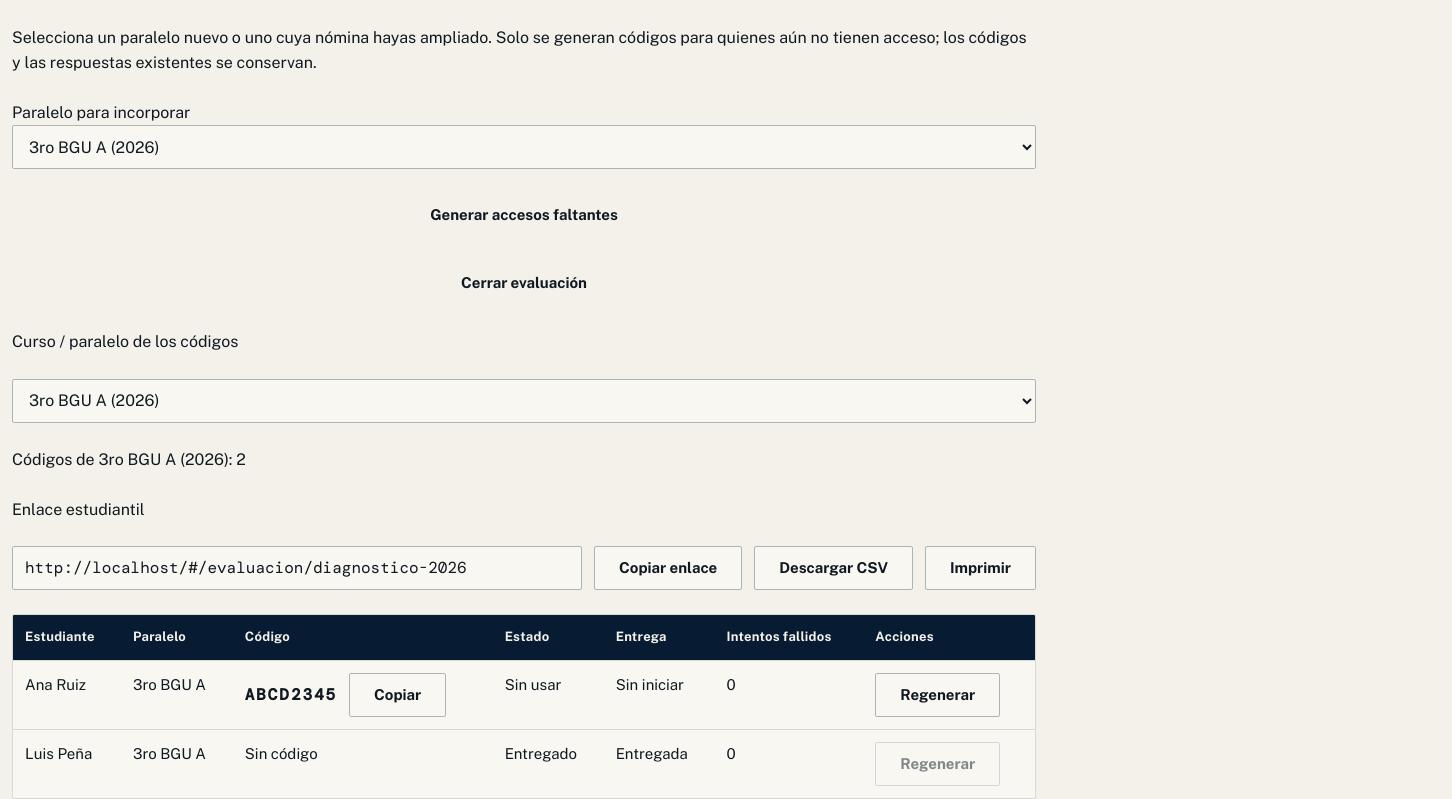
Test: AccessManagementScreen · códigos recuperables › reemplaza el código anterior en la tabla al regenerarlo
(page scrolled)
Check: the text "ABCD2345" is shown, box [245,682,337,708]
Click the button with aria-label "Regenerar código para Ana Ruiz". click: (938, 695)
box: [875,673,1000,717]
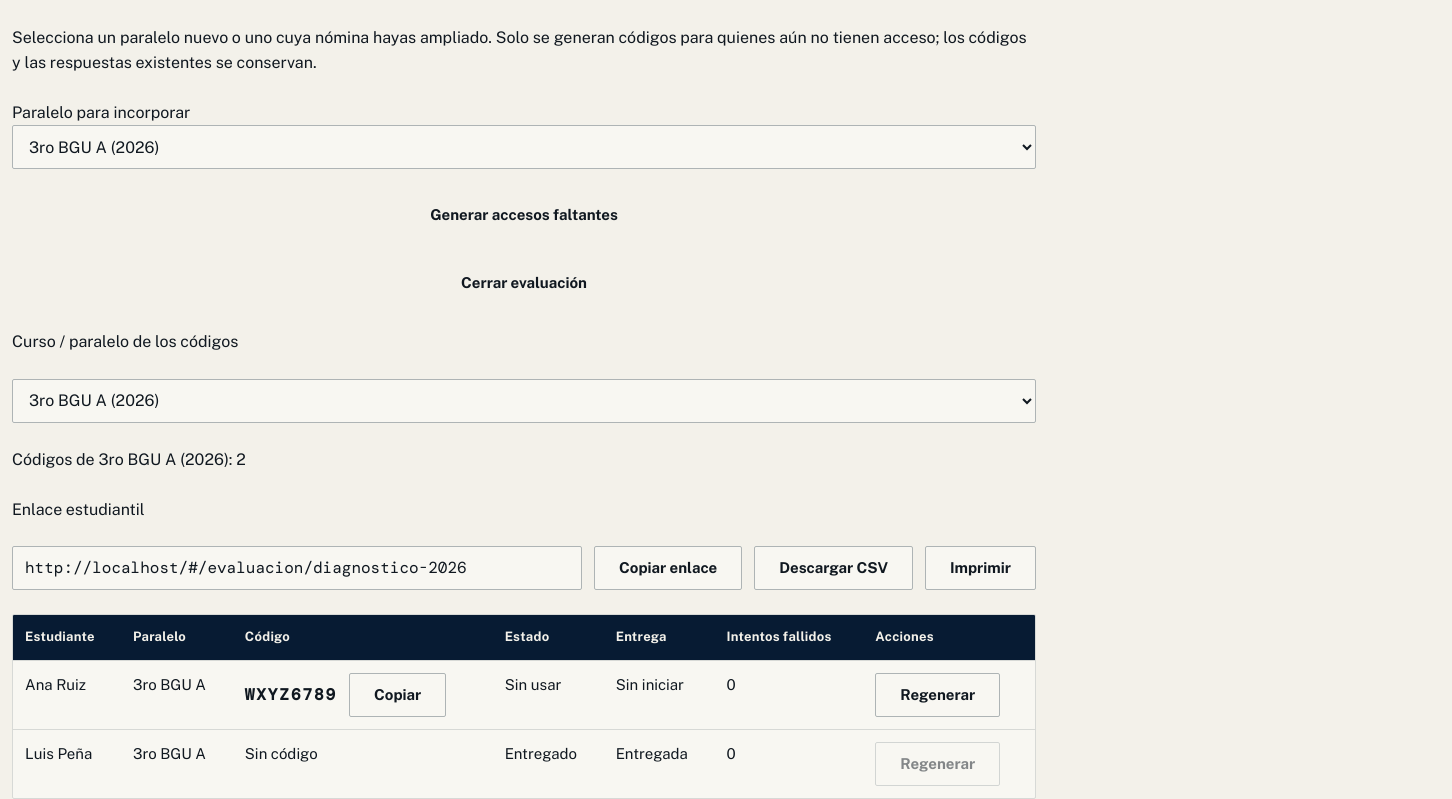
Check: the text "WXYZ6789" is shown, box [245,682,337,708]
Check: the text "ABCD2345" is gone
